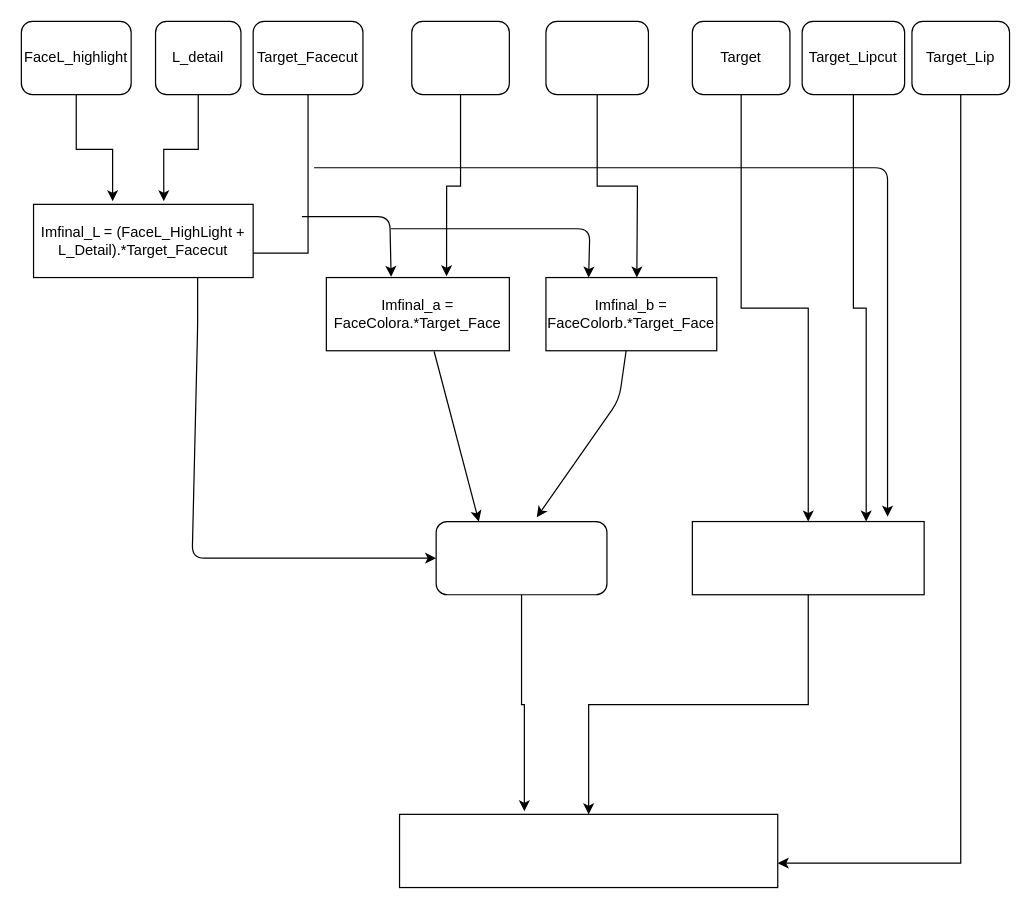
Some shapes in this 1031 by 909 pixel diagram are drawn without their labels. Here are the shapes that lost their labels. From the top down, the centre of each, then its label:
point 460,57: Face_color_a
point 596,57: Face_color_b
point 521,557: Imfinal
point 807,557: targetBackMask = double(Target) .* (~(Target_Facecut + Target_Lipcut));
point 588,850: imfinal_all = imfinal + uint8(targetBackMask) + Target_lip;
